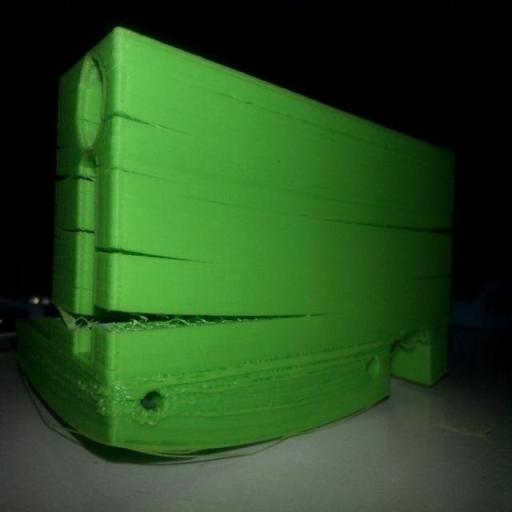cracks: (102, 290, 336, 347), (331, 206, 456, 256), (94, 236, 214, 283), (134, 374, 188, 437)
